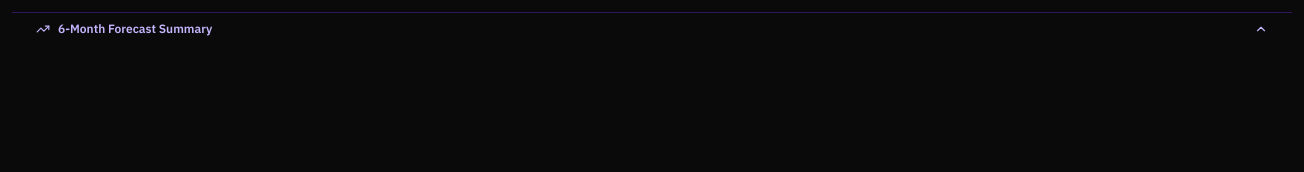
it: ForecastSummaryPanel › on expand › shows empty state message when no forecast rows exist
Click the button "6-Month Forecast Summary".
click(135, 28)  # box [12,13,1292,45]
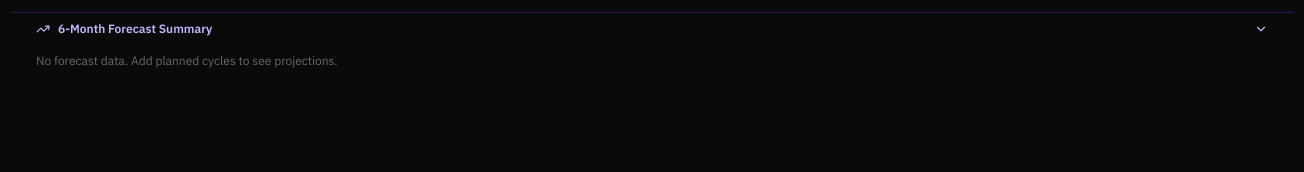
Now the text "No forecast data. Add planned cycles to see projections." is shown, box [36,53,338,68]
